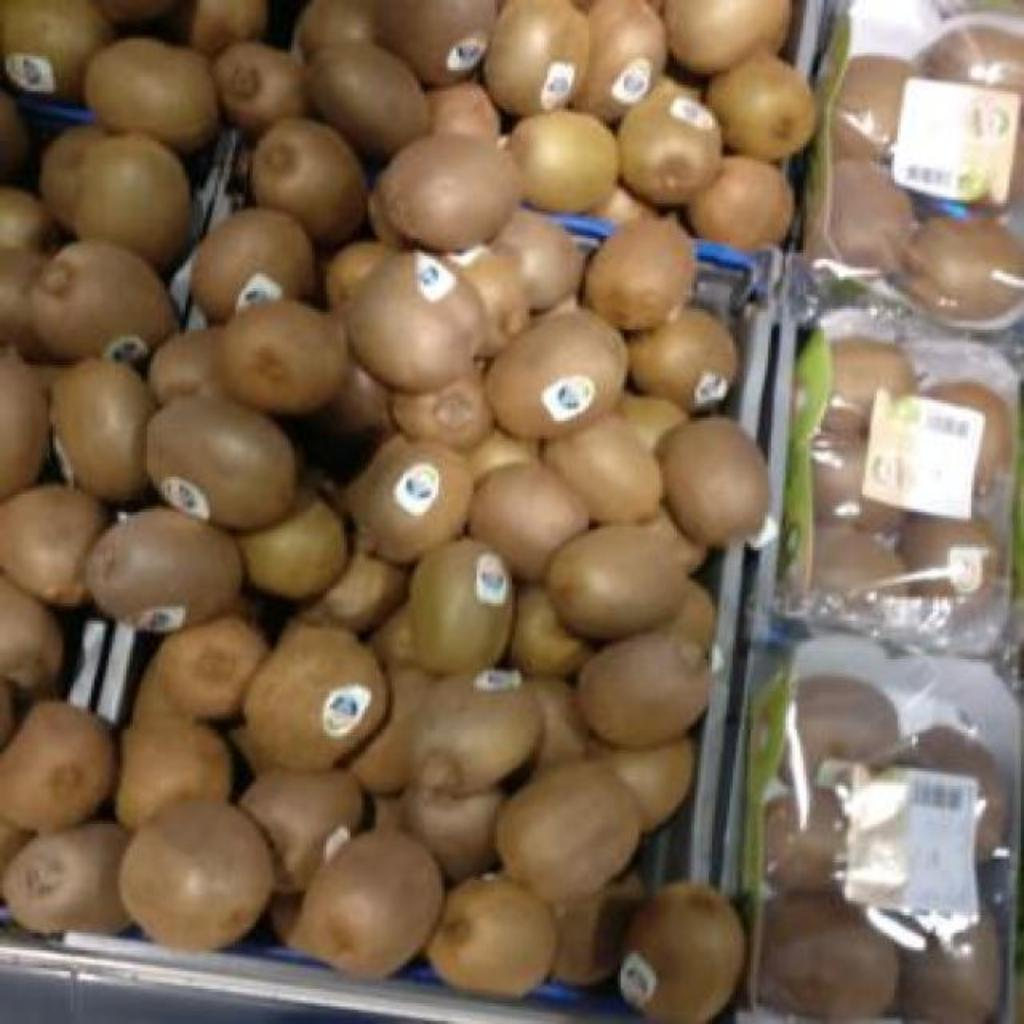kiwi: (118, 800, 274, 949), (288, 830, 444, 977), (244, 620, 388, 771), (498, 760, 642, 901), (546, 514, 706, 639), (146, 400, 298, 529), (86, 508, 242, 631), (348, 252, 484, 391), (486, 310, 626, 437), (620, 884, 742, 1023), (30, 244, 176, 359), (346, 434, 474, 563), (378, 136, 518, 251), (412, 670, 540, 795), (240, 768, 362, 893), (74, 136, 188, 269), (84, 38, 218, 151), (428, 876, 552, 997), (0, 702, 116, 831), (578, 632, 708, 747), (216, 300, 346, 415), (408, 540, 520, 673), (652, 418, 766, 546), (50, 358, 152, 501), (254, 118, 366, 243), (2, 824, 130, 933), (470, 464, 588, 581), (306, 44, 426, 159), (192, 210, 312, 321), (620, 76, 722, 205), (0, 484, 108, 605), (116, 722, 232, 829), (544, 416, 662, 521), (584, 220, 696, 329), (706, 52, 816, 161), (484, 0, 588, 115), (156, 616, 268, 719), (574, 0, 666, 121), (630, 308, 738, 411), (238, 498, 348, 599), (350, 666, 436, 795), (0, 0, 112, 99), (510, 110, 616, 211), (402, 786, 504, 881), (688, 156, 792, 249), (446, 244, 530, 355), (665, 0, 790, 73), (494, 210, 584, 311), (212, 42, 306, 133), (302, 550, 406, 631), (392, 372, 494, 451), (606, 738, 690, 831), (512, 586, 592, 677), (0, 354, 50, 499), (0, 576, 62, 689), (40, 126, 106, 229), (148, 330, 224, 405), (528, 676, 588, 767), (296, 0, 376, 55), (190, 0, 267, 57), (426, 84, 500, 143), (616, 394, 688, 453), (0, 248, 44, 343), (658, 580, 716, 651), (132, 656, 186, 725), (372, 604, 418, 667)
